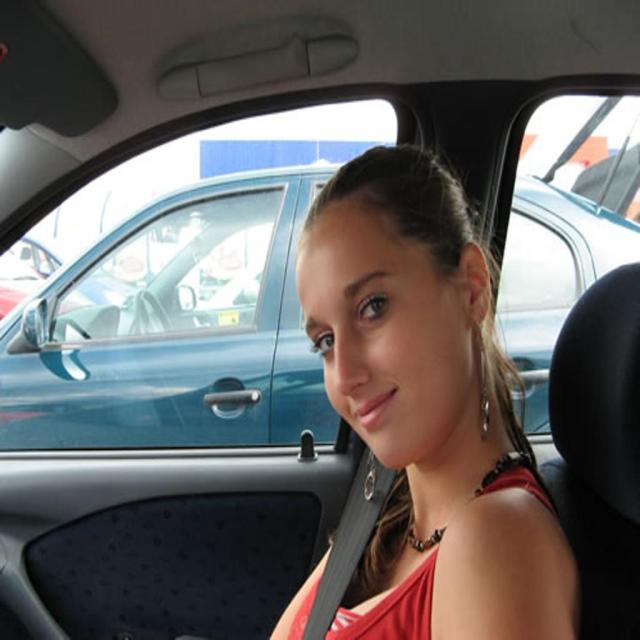Face: (293, 182, 454, 475)
